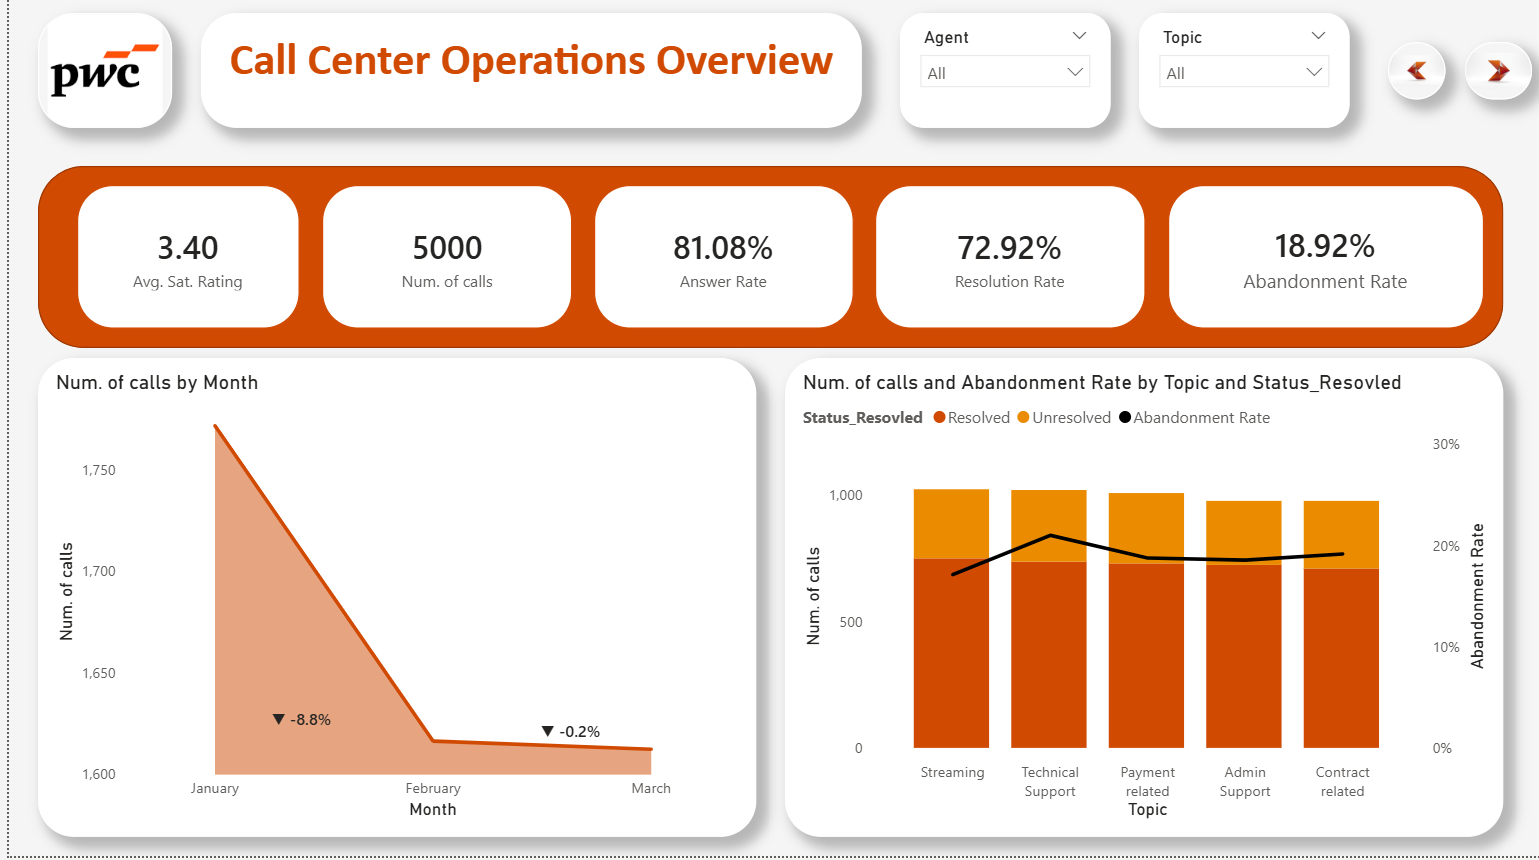

What the dashboard file says about the page in this screenshot:
{"tool":"powerbi","page":{"name":"Overview","canvas":[1280,720],"ordinal":0},"visuals":[{"type":"shape","box":[24,144,1224,152],"z":0,"group":"g1"},{"type":"areaChart","fields":{"Category":["Calendar.Date.Variation.Date Hierarchy.Month"],"Y":["_Measures.Num. of calls"],"Series":["Sheet1.Answer_Status"]},"box":[24,304,600,400],"z":0},{"type":"group","id":"g1","title":"Group 1","box":[24,144,1224,152],"z":1000},{"type":"cardVisual","fields":{"Data":["_Measures.Num. of calls"]},"box":[261.1,160,209.2,120],"z":1000,"group":"g1"},{"type":"slicer","fields":{"Values":["Sheet1.Agent"]},"box":[744,16,176,96],"z":2000},{"type":"cardVisual","fields":{"Data":["_Measures.Answer Rate"]},"box":[488.5,160,216.6,120],"z":2000,"group":"g1"},{"type":"cardVisual","fields":{"Data":["_Measures.Resolution Rate"]},"box":[723.3,160,226,120],"z":3000,"group":"g1"},{"type":"lineStackedColumnComboChart","fields":{"Category":["Sheet1.Topic"],"Y":["_Measures.Num. of calls"],"Series":["Sheet1.Status_Resovled"],"Y2":["_Measures.Abandonment Rate"]},"box":[648,304,600,400],"z":3000},{"type":"slicer","fields":{"Values":["Sheet1.Topic"]},"box":[944,16,176,96],"z":4000},{"type":"cardVisual","fields":{"Data":["_Measures.Abandonment Rate"]},"box":[967.5,160,263.6,120],"z":4000,"group":"g1"},{"type":"image","box":[24,16,112,96],"z":5000},{"type":"cardVisual","fields":{"Data":["_Measures.Avg Satisfaction Rating"]},"box":[57,160,185.9,120],"z":5000,"group":"g1"},{"type":"image","box":[1216,40,56,48],"z":6000},{"type":"textbox","box":[160,16,552,96],"z":7000},{"type":"image","box":[1152,40,48,48],"z":8000},{"type":"cardVisual","fields":{"Data":["_Measures.Calls Trend UI"]},"box":[200,512,136,72],"z":9000},{"type":"cardVisual","fields":{"Data":["_Measures.Calls Trend UI"]},"box":[376,512,136,72],"z":10000}]}

Visuals, with their boxes in screenshot pixels (x1, y1, x2, y2), scaled from the page's 1280x720 canvas onto the 1539x860 screenshot:
shape: {"left": 29, "top": 172, "right": 1501, "bottom": 354}
areaChart - Calendar.Date.Variation.Date Hierarchy.Month x _Measures.Num. of calls: {"left": 29, "top": 363, "right": 750, "bottom": 841}
"Group 1" group: {"left": 29, "top": 172, "right": 1501, "bottom": 354}
cardVisual - _Measures.Num. of calls: {"left": 314, "top": 191, "right": 565, "bottom": 334}
slicer - Sheet1.Agent: {"left": 895, "top": 19, "right": 1106, "bottom": 134}
cardVisual - _Measures.Answer Rate: {"left": 587, "top": 191, "right": 848, "bottom": 334}
cardVisual - _Measures.Resolution Rate: {"left": 870, "top": 191, "right": 1141, "bottom": 334}
lineStackedColumnComboChart - Sheet1.Topic x _Measures.Num. of calls: {"left": 779, "top": 363, "right": 1501, "bottom": 841}
slicer - Sheet1.Topic: {"left": 1135, "top": 19, "right": 1347, "bottom": 134}
cardVisual - _Measures.Abandonment Rate: {"left": 1163, "top": 191, "right": 1480, "bottom": 334}
image: {"left": 29, "top": 19, "right": 164, "bottom": 134}
cardVisual - _Measures.Avg Satisfaction Rating: {"left": 69, "top": 191, "right": 292, "bottom": 334}
image: {"left": 1462, "top": 48, "right": 1529, "bottom": 105}
textbox: {"left": 192, "top": 19, "right": 856, "bottom": 134}
image: {"left": 1385, "top": 48, "right": 1443, "bottom": 105}
cardVisual - _Measures.Calls Trend UI: {"left": 240, "top": 612, "right": 404, "bottom": 698}
cardVisual - _Measures.Calls Trend UI: {"left": 452, "top": 612, "right": 616, "bottom": 698}
